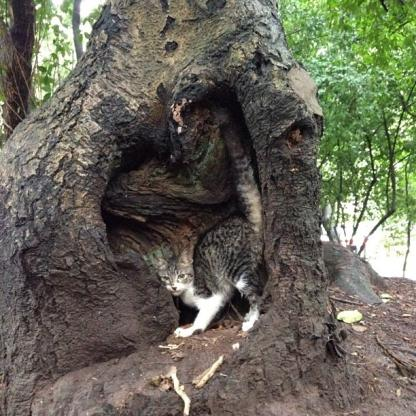Target: (145, 218, 272, 339)
